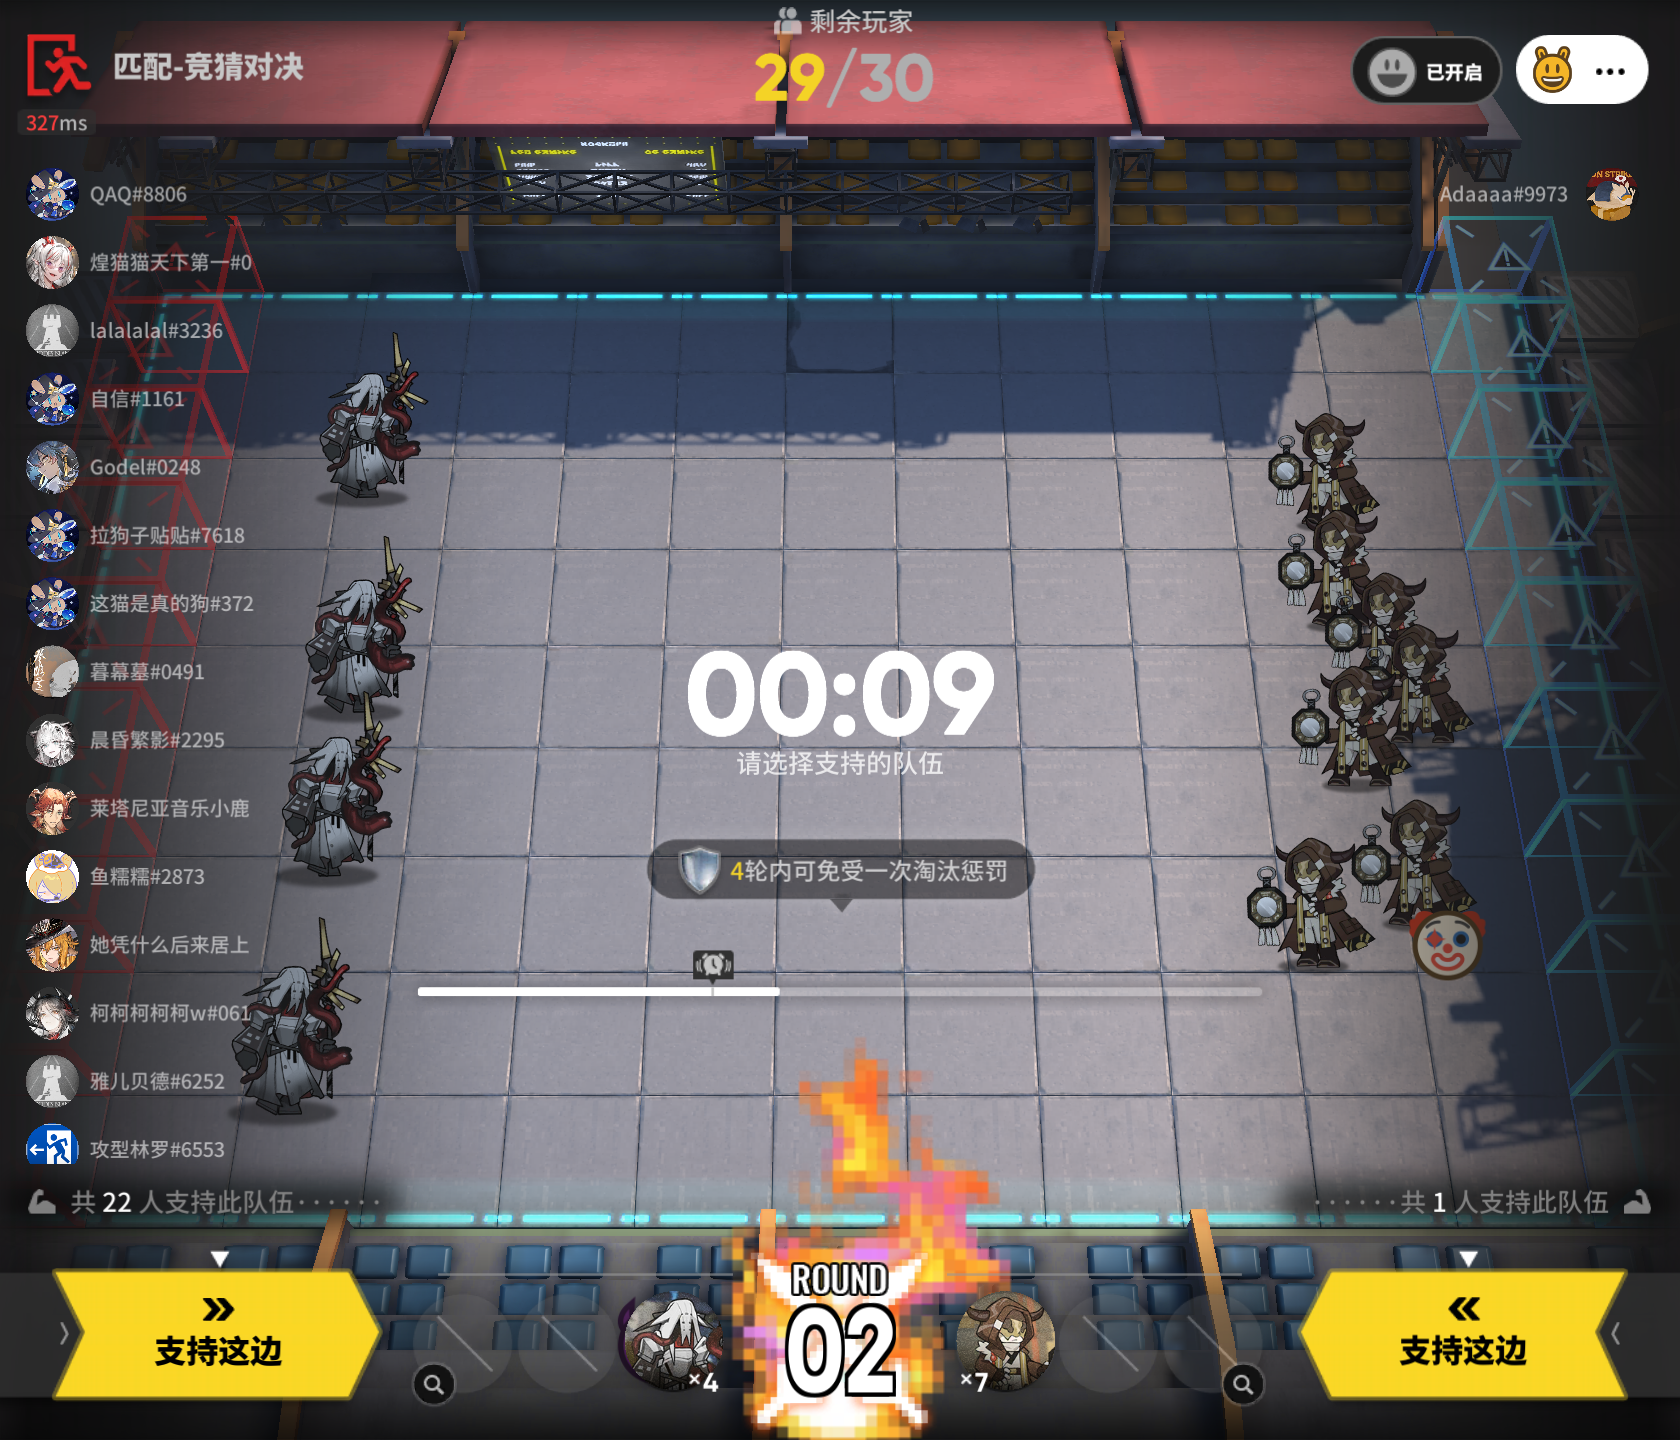重生术师: (283, 689, 411, 894), (240, 919, 356, 1119), (301, 531, 426, 714), (321, 330, 433, 497), (614, 1283, 731, 1393)
镜子机关枪: (1246, 836, 1383, 974), (1361, 789, 1481, 926), (1364, 613, 1486, 746), (1287, 663, 1411, 789), (1271, 510, 1389, 639), (1271, 406, 1381, 541), (1314, 561, 1429, 673), (960, 1290, 1067, 1393)
